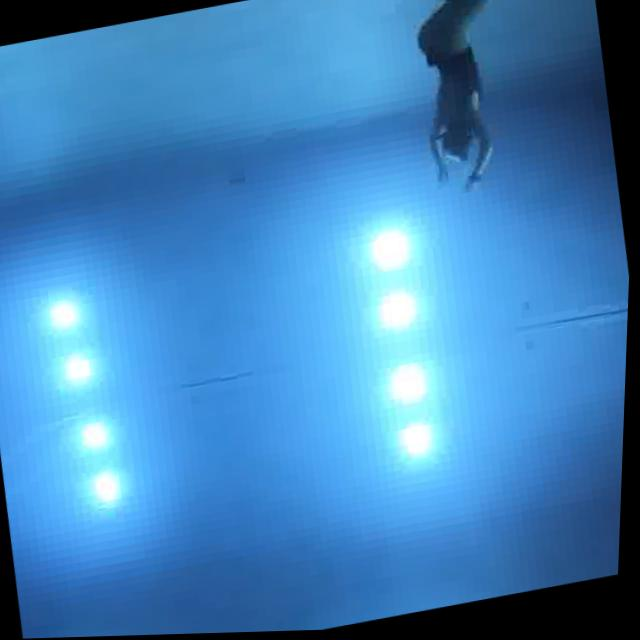human: (386, 0, 530, 212)
